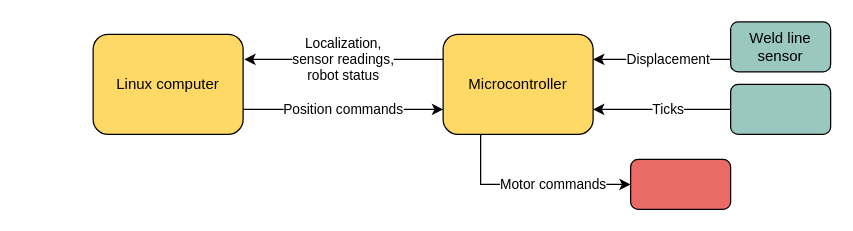
Some shapes in this 853 by 231 pixel diagram are drawn without their labels. Each missing label, with the centre of its shape:
Encoders: (x=780, y=108)
Motor drivers: (x=680, y=183)
